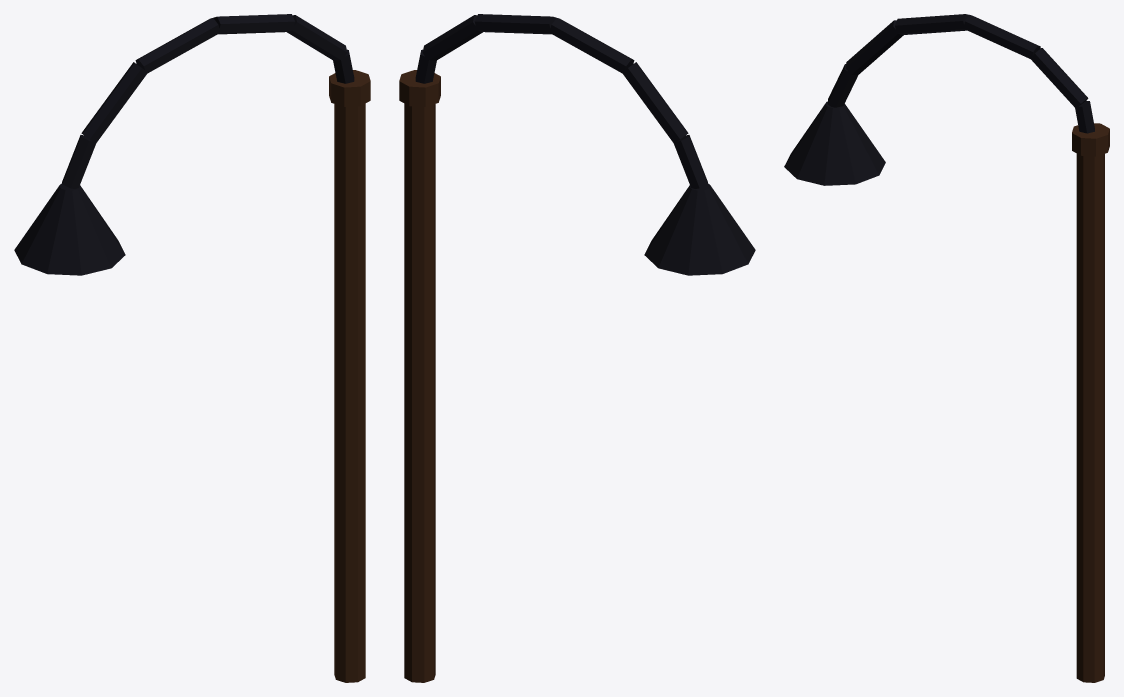
File: lamp.glb
The picture shows the model from 3 angles, left to right: view 1: azimuth 30°, elevation 25°; view 2: azimuth 150°, elevation 25°; view 3: azimuth 330°, elevation 25°; orthographic projection. The views are drawn at different scales.
Visible parts, largest first — view 1: Lamp_Post; view 2: Lamp_Post; view 3: Lamp_Post.
Boxes of the visible parts, left/top/right/bottom form: Lamp_Post: left=14, top=14, right=370, bottom=682; Lamp_Post: left=399, top=14, right=755, bottom=682; Lamp_Post: left=784, top=14, right=1109, bottom=682.
Bounding box in the file's own units: 1.86 × 3.54 × 0.4945.
Materials: 1 (1 with a texture image).
